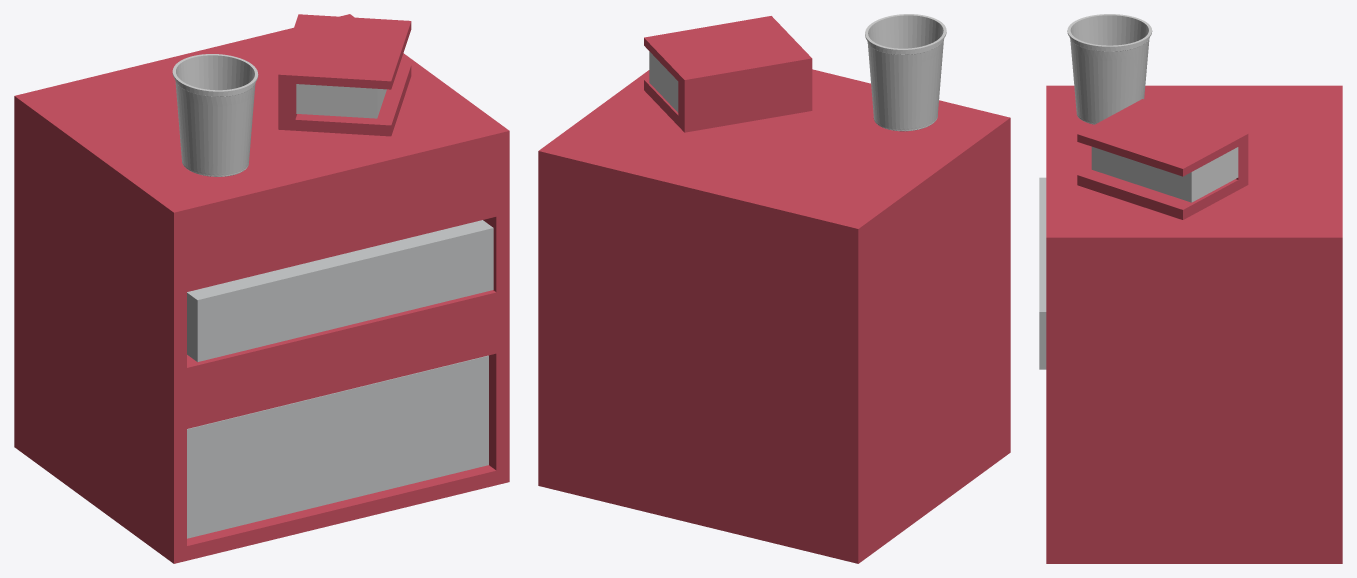
The model's file is Daring Bigery-Juttuli (1).glb.
3 views of the same model, side by side, from view 1: azimuth 30°, elevation 25°; view 2: azimuth 150°, elevation 25°; view 3: azimuth 270°, elevation 25° (orthographic). The views are drawn at different scales.
Parts seen in each view (by area): view 1: Mesh_Mesh_head_geo.001_lambert2SG.001; view 2: Mesh_Mesh_head_geo.001_lambert2SG.001; view 3: Mesh_Mesh_head_geo.001_lambert2SG.001.
Part boxes in pixels (left/top/right/bottom): Mesh_Mesh_head_geo.001_lambert2SG.001: left=14, top=14, right=509, bottom=563; Mesh_Mesh_head_geo.001_lambert2SG.001: left=538, top=14, right=1010, bottom=563; Mesh_Mesh_head_geo.001_lambert2SG.001: left=1039, top=14, right=1342, bottom=563.
Size of the model in its own units: 51 by 65 by 43.
